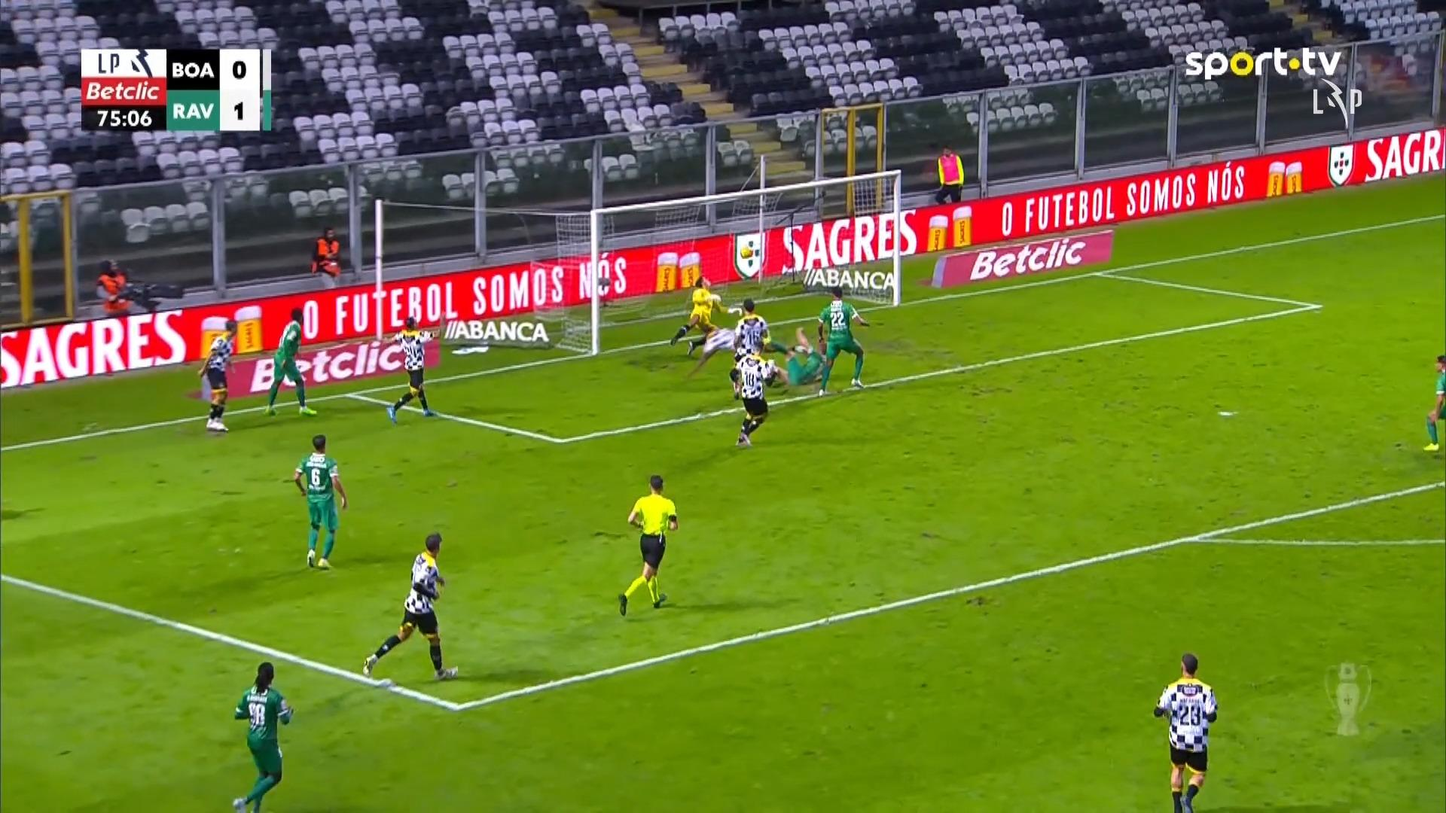ball: (740, 245, 754, 259)
goalkeeper: (668, 276, 740, 351)
player: (362, 531, 459, 681), (1152, 652, 1218, 811), (230, 660, 294, 811), (685, 297, 795, 378), (371, 315, 442, 424), (293, 434, 348, 569), (814, 285, 869, 397), (730, 343, 789, 447), (264, 307, 317, 416), (197, 318, 238, 431), (729, 297, 771, 400), (782, 327, 826, 385), (1422, 353, 1444, 452)
referee: (616, 474, 679, 616)
